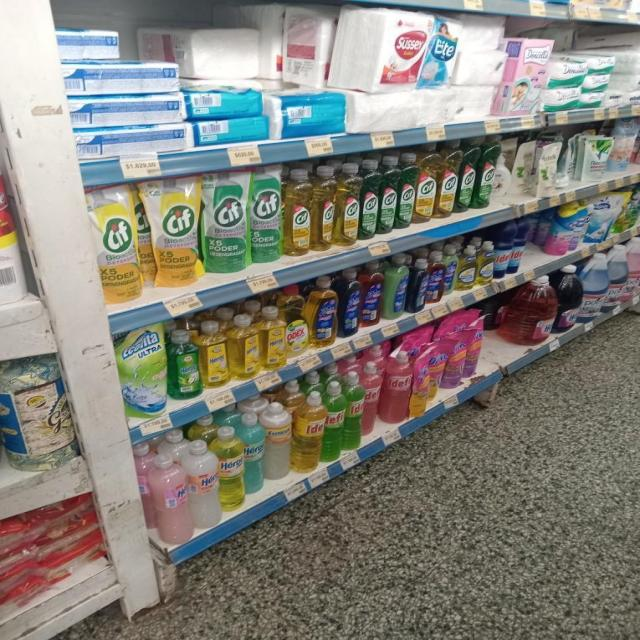cif_conc_bot_amarilla: (284, 168, 312, 257), (335, 162, 360, 246), (313, 166, 335, 252), (416, 143, 437, 223), (438, 140, 458, 218)
cif_conc_botella_verde: (361, 158, 379, 240), (477, 135, 496, 209), (398, 152, 416, 229), (380, 156, 397, 235), (459, 136, 476, 212)
cif_conc_sachet_amarillo: (147, 176, 200, 288), (96, 183, 142, 303)
cif_conc_sachet_verde: (202, 171, 248, 274), (250, 166, 282, 264)
heroe: (202, 319, 228, 389), (261, 306, 286, 370)
magistral_con_amarillo: (457, 246, 476, 290), (477, 241, 493, 286)
